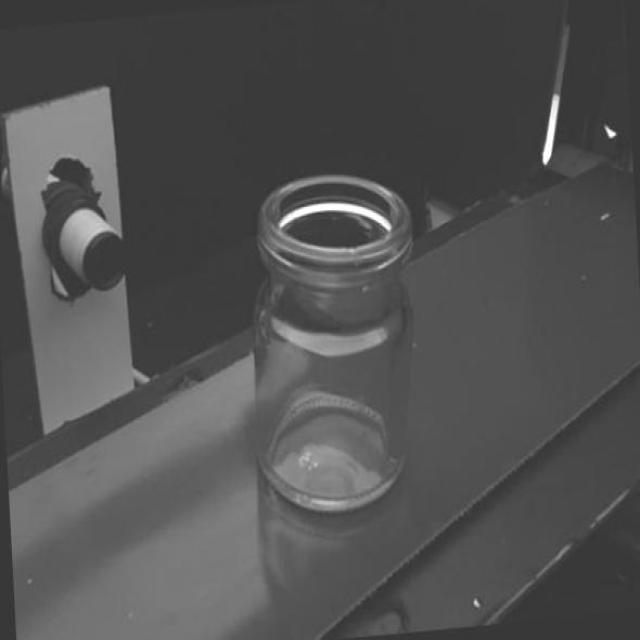defect: (337, 242, 368, 266), (356, 276, 369, 296)
glass: (232, 154, 438, 528)
